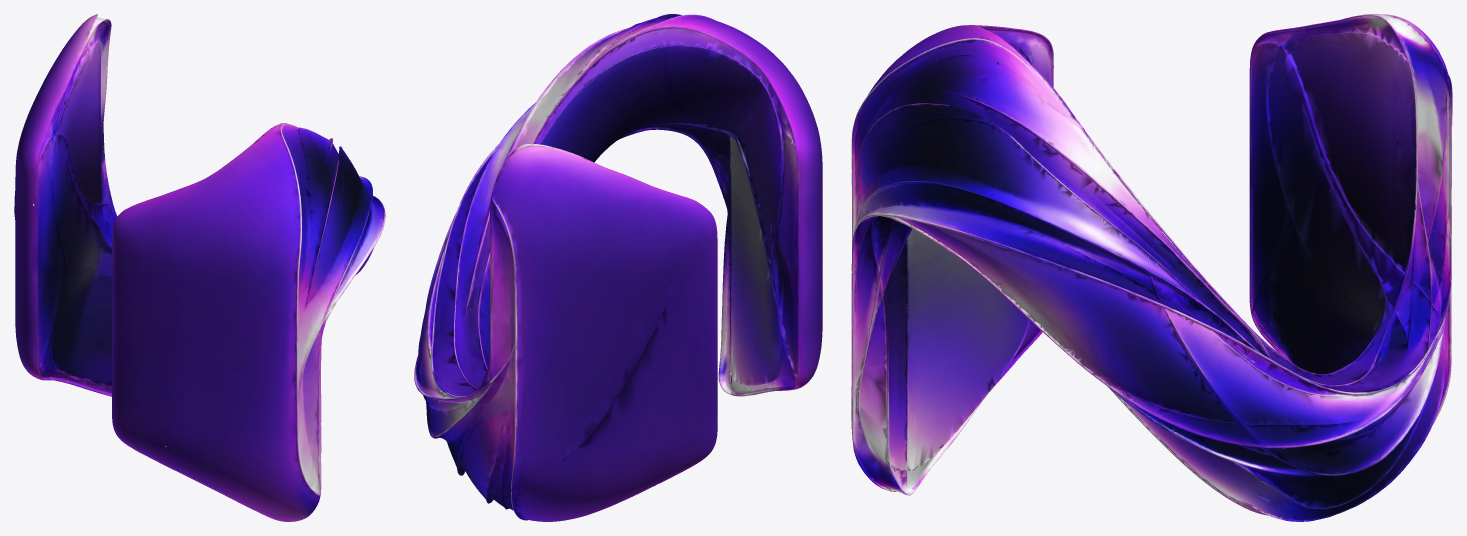
File: nayro-n.glb
3 renders of one model, left to right at view 1: azimuth 30°, elevation 25°; view 2: azimuth 150°, elevation 25°; view 3: azimuth 270°, elevation 25°, orthographic. The views are drawn at different scales.
Parts seen in each view (by area): view 1: tripo_node_87027306-d535-4daf-8b46-c87feeb169d0; view 2: tripo_node_87027306-d535-4daf-8b46-c87feeb169d0; view 3: tripo_node_87027306-d535-4daf-8b46-c87feeb169d0.
Boxes of the visible parts, bbox=[...] form: tripo_node_87027306-d535-4daf-8b46-c87feeb169d0: bbox=[14, 14, 385, 521]; tripo_node_87027306-d535-4daf-8b46-c87feeb169d0: bbox=[414, 14, 822, 521]; tripo_node_87027306-d535-4daf-8b46-c87feeb169d0: bbox=[851, 14, 1452, 521].
Size of the model in its own units: 0.6847 by 0.857 by 0.9806.
1 material, 1 textured.
